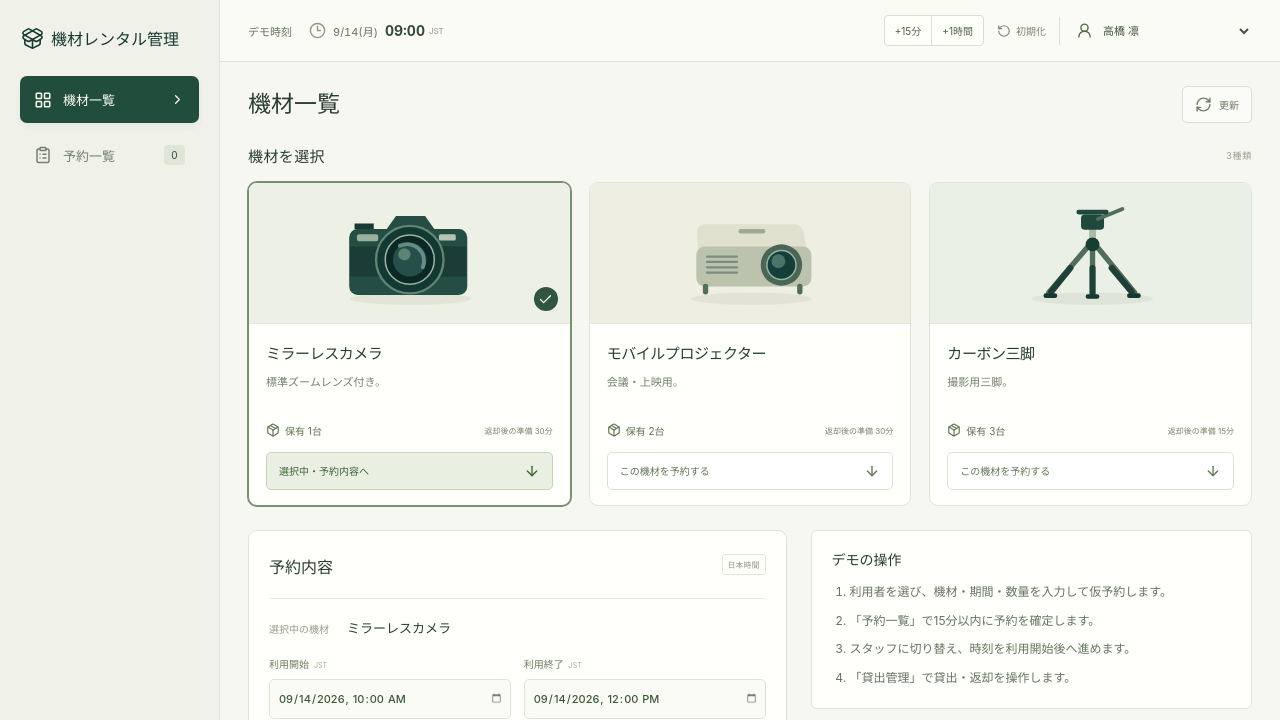
Test: 貸出デスクの画面 › 他の利用者の予約操作を表示せず、スタッフには全員の予約を表示する
Check: the heading "機材一覧" is shown, box [248,88,340,121]
Step 1. Click the button "予約一覧 0" → (110, 155), box [20,131,199,179]
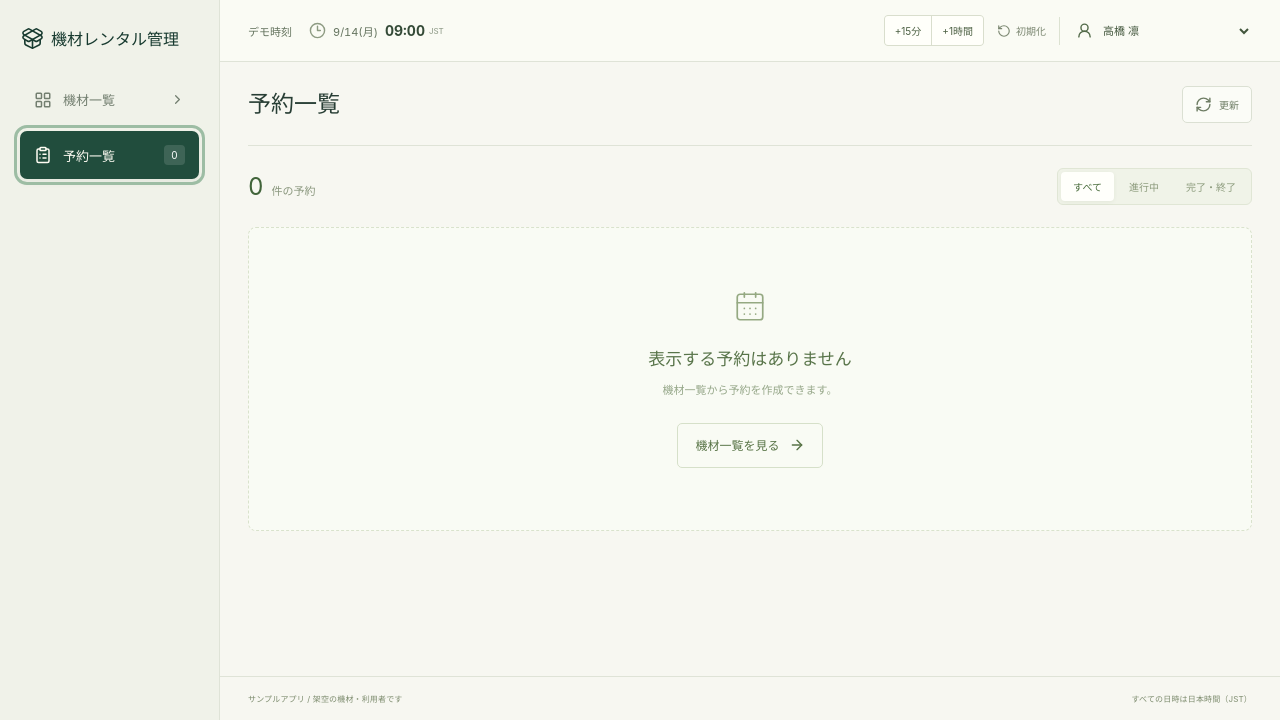
Check: the list item "貸出管理" is gone
Step 2. Select "貸出スタッフ（スタッフ）" in the dropdown named "利用者を切り替え" → (1175, 30), box [1098,16,1252,44]
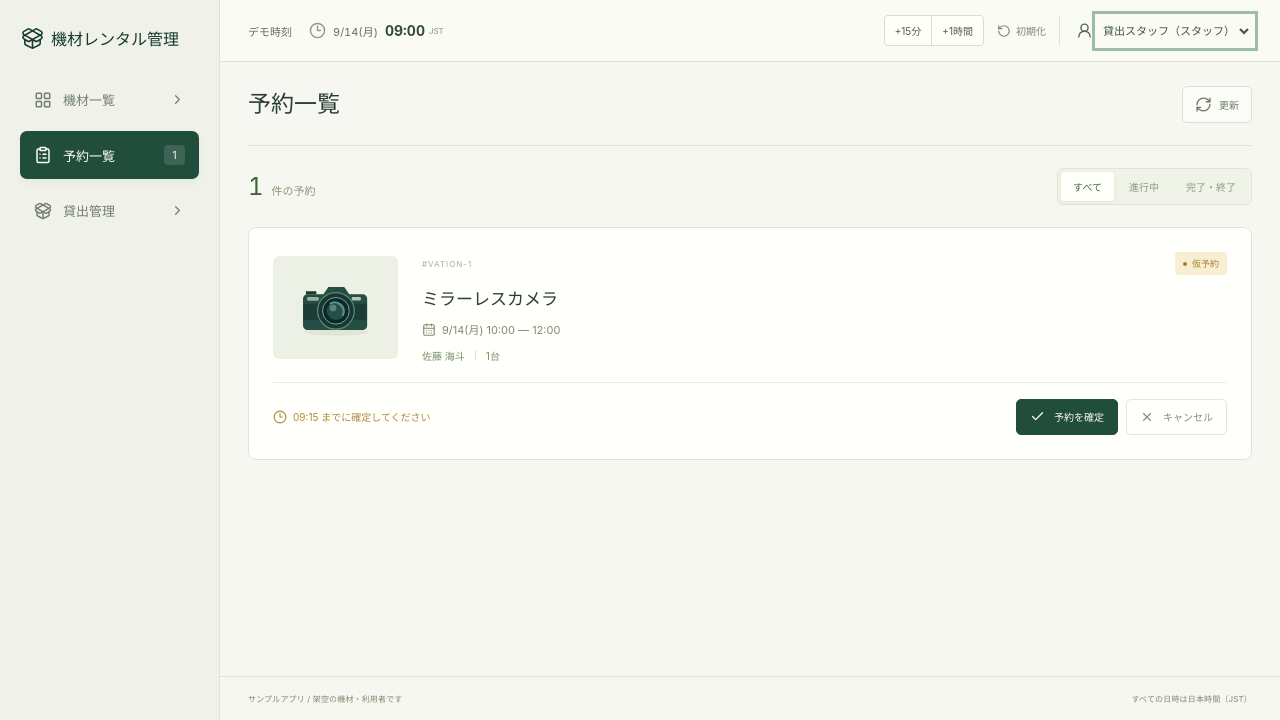
Check: the button "予約を確定" is shown, box [1016,399,1118,435]
Check: the button "貸出管理" is shown, box [20,187,199,234]
